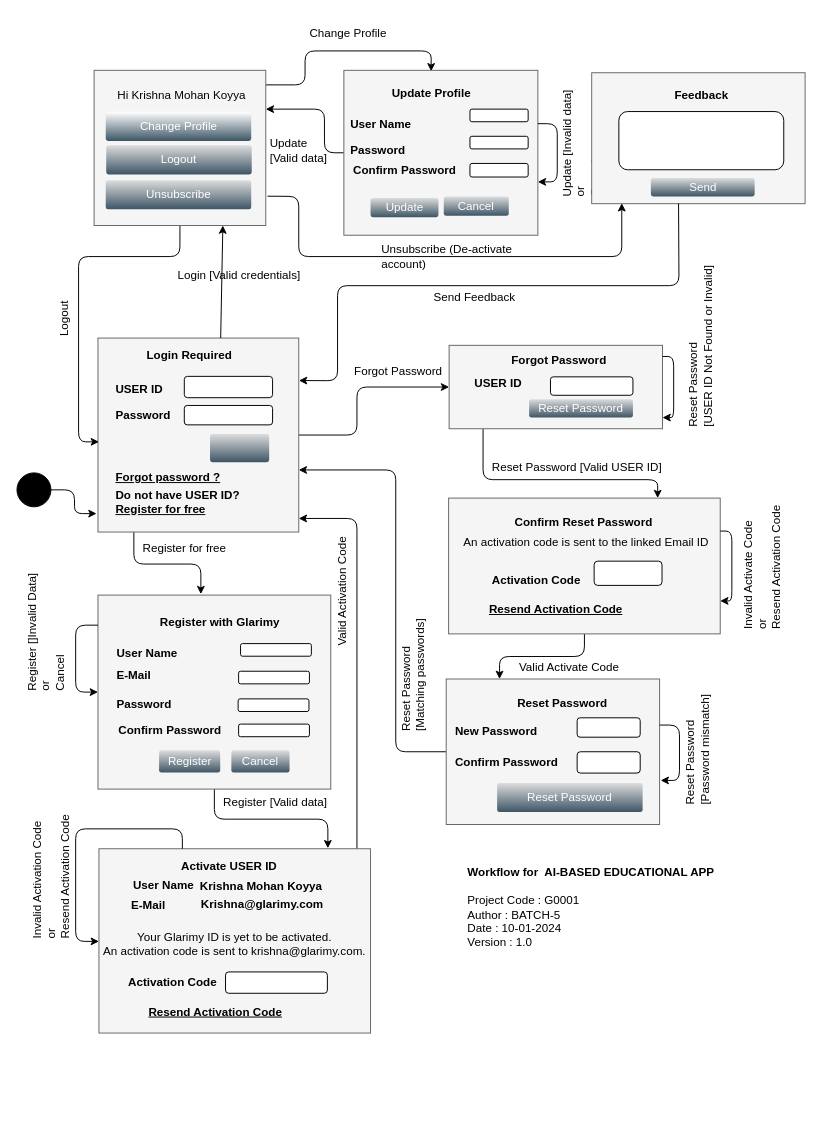
This 823x1142 diagram has some shape labels left out. Each missing label, with the centre of its shape:
"Login" goes at point 239,447.
"START" goes at point 33,489.
